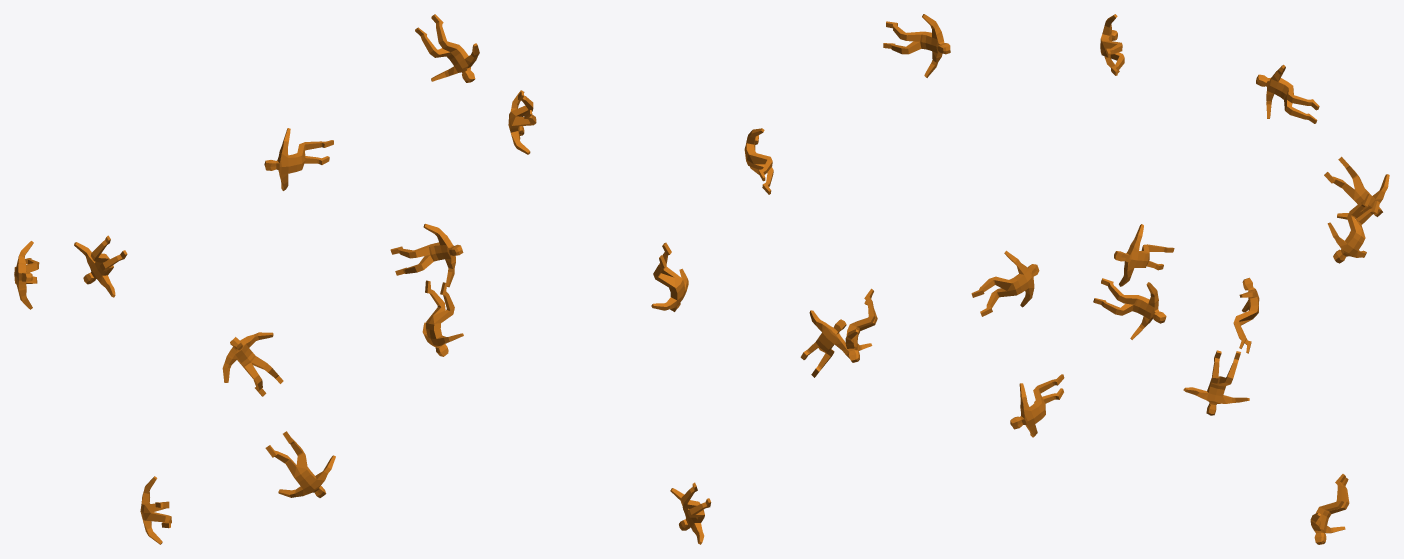
File: expendable_group.fbx
3 renders of one model, left to right at view 1: azimuth 30°, elevation 25°; view 2: azimuth 150°, elevation 25°; view 3: azimuth 270°, elevation 25°, orthographic. The views are drawn at different scales.
Parts seen in each view (by area): view 1: Cube.003; view 2: Cube.003; view 3: Cube.003.
Boxes of the visible parts, x1=… form: Cube.003: x1=14, y1=14, x2=479, y2=544; Cube.003: x1=508, y1=14, x2=1064, y2=544; Cube.003: x1=1093, y1=14, x2=1389, y2=544.
Bounding box in the file's own units: 11.91 × 11.06 × 6.38.
